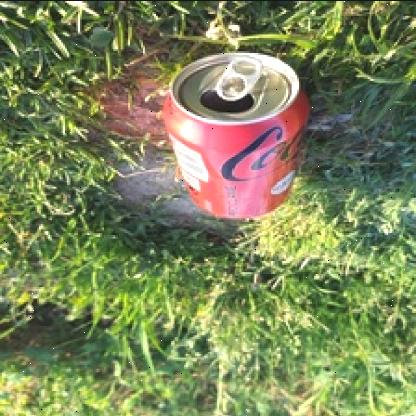Can: (162, 51, 312, 222)
